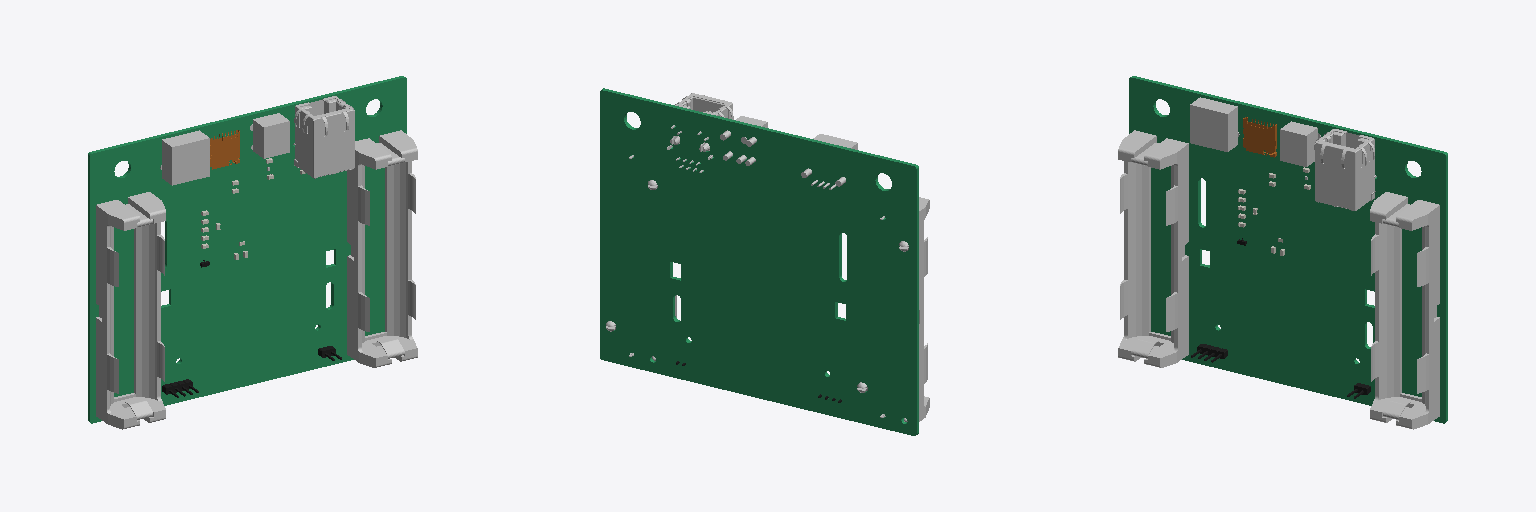
The model's file is Meshinger-1b-board.obj.
3 renders of one model, left to right at view 1: azimuth 30°, elevation 25°; view 2: azimuth 150°, elevation 25°; view 3: azimuth 330°, elevation 25°, orthographic.
Visible parts, largest first — view 1: Pcb_348c, Shape001, Shape, Shape006, Shape009, Shape007, Shape014; view 2: Pcb_348c, Shape001, Shape006, Shape009; view 3: Pcb_348c, Shape001, Shape, Shape006, Shape009, Shape007, Shape014.
Boxes of the visible parts, x1=… form: Pcb_348c: x1=88, y1=76, x2=406, y2=423; Shape001: x1=96, y1=192, x2=165, y2=429; Shape: x1=347, y1=130, x2=417, y2=367; Shape006: x1=293, y1=96, x2=354, y2=178; Shape009: x1=160, y1=130, x2=209, y2=185; Shape007: x1=250, y1=113, x2=289, y2=158; Shape014: x1=210, y1=130, x2=239, y2=169; Pcb_348c: x1=600, y1=88, x2=918, y2=435; Shape001: x1=857, y1=197, x2=929, y2=421; Shape006: x1=667, y1=93, x2=733, y2=172; Shape009: x1=801, y1=134, x2=857, y2=189; Pcb_348c: x1=1129, y1=76, x2=1447, y2=423; Shape001: x1=1118, y1=130, x2=1188, y2=367; Shape: x1=1370, y1=192, x2=1439, y2=429; Shape006: x1=1314, y1=129, x2=1376, y2=210; Shape009: x1=1190, y1=97, x2=1239, y2=151; Shape007: x1=1280, y1=121, x2=1320, y2=166; Shape014: x1=1243, y1=117, x2=1276, y2=157.
Bounding box in the file's own units: 121 × 98.5 × 19.86.